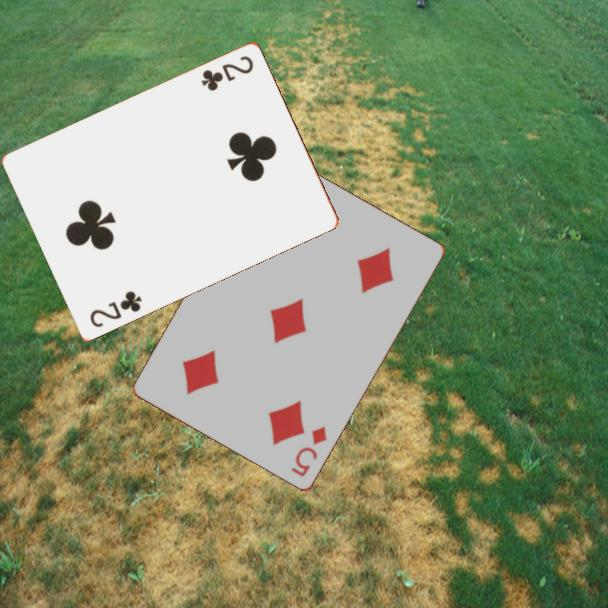c02: (86, 287, 145, 330), (197, 52, 257, 94)
d05: (288, 423, 330, 480)
